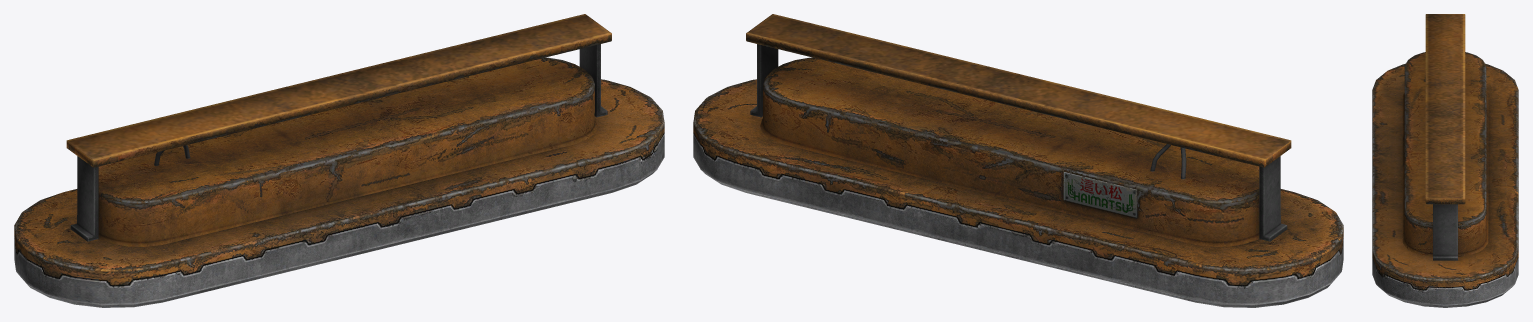
Rendered from lamp_ceiling_deepsea_big.dae.
3 renders of one model, left to right at view 1: azimuth 30°, elevation 25°; view 2: azimuth 150°, elevation 25°; view 3: azimuth 270°, elevation 25°, orthographic. The views are drawn at different scales.
Parts seen in each view (by area): view 1: polySurface68; view 2: polySurface68; view 3: polySurface68.
Part boxes in pixels (x1,y1,x2,y2): polySurface68: [14, 14, 664, 307]; polySurface68: [693, 14, 1343, 307]; polySurface68: [1372, 14, 1518, 307].
Size of the model in its own units: 1.6 by 0.308 by 0.4455.
